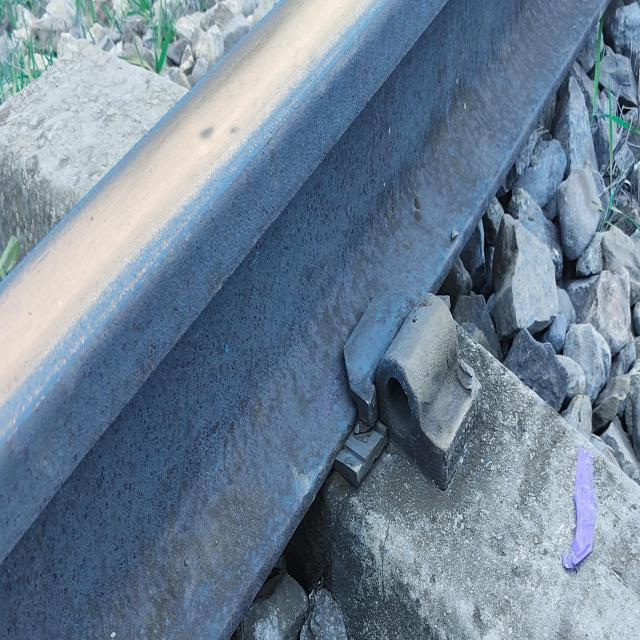Missing Fastener: (364, 265, 492, 522)
